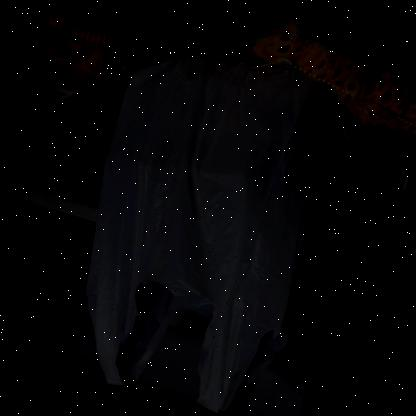Others: (80, 56, 358, 416), (244, 13, 416, 143), (28, 5, 134, 115)
